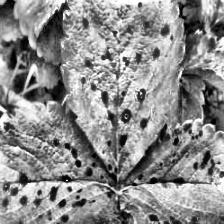Leaf Spot: (58, 0, 186, 185), (0, 96, 124, 224), (118, 118, 224, 224), (15, 0, 67, 36), (202, 20, 224, 92), (178, 0, 214, 36)
